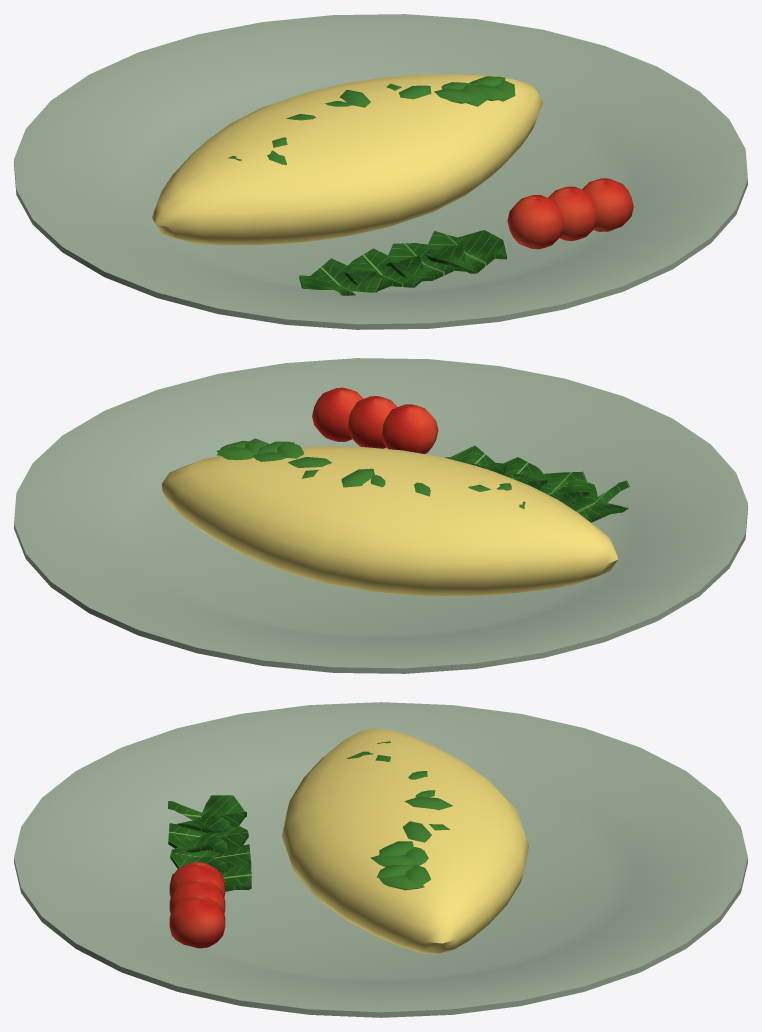
File: meal_omelette_plate.glb
The picture shows the model from 3 angles, top to bottom: view 1: azimuth 30°, elevation 25°; view 2: azimuth 150°, elevation 25°; view 3: azimuth 270°, elevation 25°; orthographic projection.
Visible parts, largest first — view 1: meal_omelette_plate; view 2: meal_omelette_plate; view 3: meal_omelette_plate.
Boxes of the visible parts, x1,y1,x2,y2 form: meal_omelette_plate: (14, 14, 747, 329); meal_omelette_plate: (14, 358, 747, 673); meal_omelette_plate: (14, 702, 747, 1017).
Size of the model in its own units: 0.3 by 0.045 by 0.3.
Materials: 5 (2 with a texture image).
